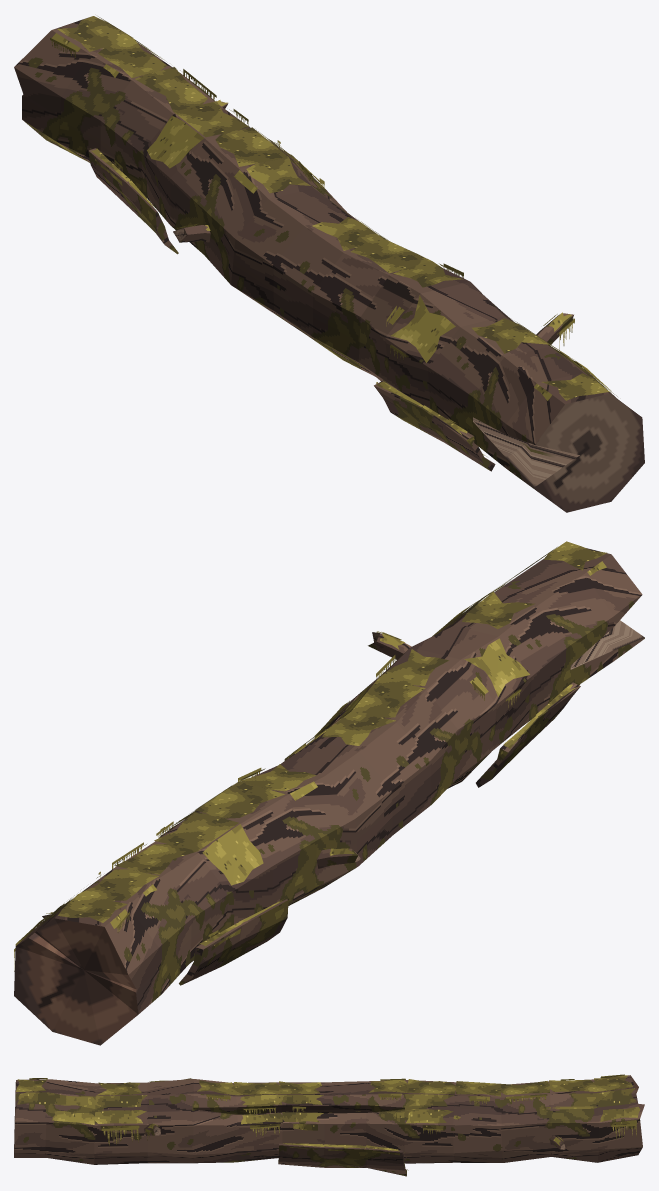
File: SM_SW11_SunkenLogLong.fbx
3 renders of one model, top to bottom at view 1: azimuth 30°, elevation 25°; view 2: azimuth 150°, elevation 25°; view 3: azimuth 270°, elevation 25°, orthographic. The views are drawn at different scales.
Visible parts, largest first — view 1: SW11a_Bark, SW11a_Moss, SW11a_Props, SW11a_Plants; view 2: SW11a_Bark, SW11a_Moss, SW11a_Props, SW11a_Plants; view 3: SW11a_Bark, SW11a_Moss, SW11a_Plants, SW11a_Props.
Part boxes in pixels (left/top/right/bottom): SW11a_Bark: left=14, top=17, right=628, bottom=488; SW11a_Moss: left=51, top=16, right=617, bottom=456; SW11a_Props: left=173, top=228, right=644, bottom=512; SW11a_Plants: left=50, top=38, right=574, bottom=360; SW11a_Bark: left=16, top=548, right=644, bottom=1014; SW11a_Moss: left=15, top=541, right=606, bottom=950; SW11a_Props: left=14, top=620, right=644, bottom=1045; SW11a_Plants: left=14, top=632, right=521, bottom=971; SW11a_Bark: left=14, top=1075, right=644, bottom=1176; SW11a_Moss: left=16, top=1074, right=640, bottom=1170; SW11a_Plants: left=101, top=1074, right=636, bottom=1145; SW11a_Props: left=14, top=1075, right=638, bottom=1153.
Size of the model in its own units: 1.32 by 0.8881 by 6.15.
